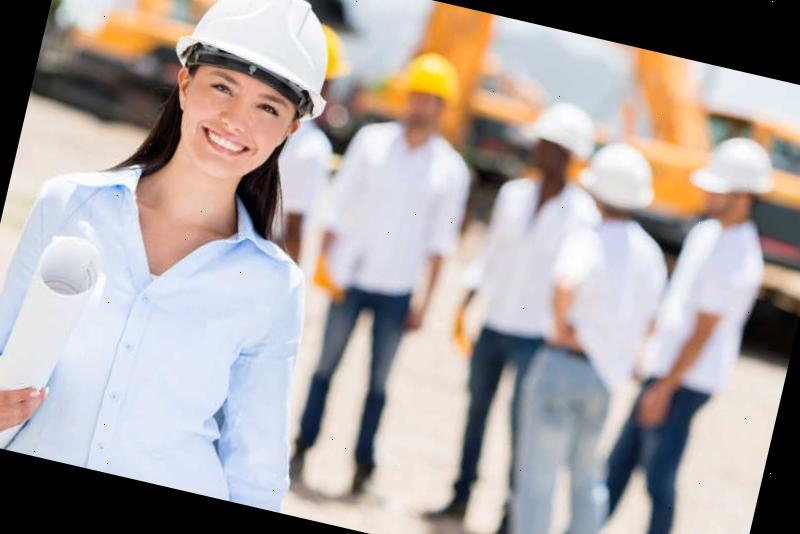helmet: (169, 0, 371, 109), (688, 127, 790, 211), (572, 132, 666, 217), (526, 96, 605, 164), (396, 44, 470, 112)
no_wear: (0, 177, 321, 508), (312, 122, 473, 315), (644, 214, 773, 406), (462, 173, 594, 356), (551, 211, 676, 380)
